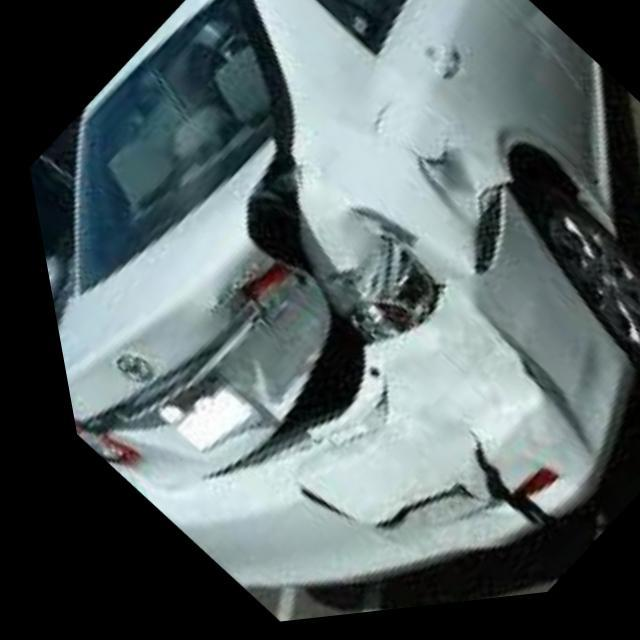dislocated part: (79, 143, 578, 555)
